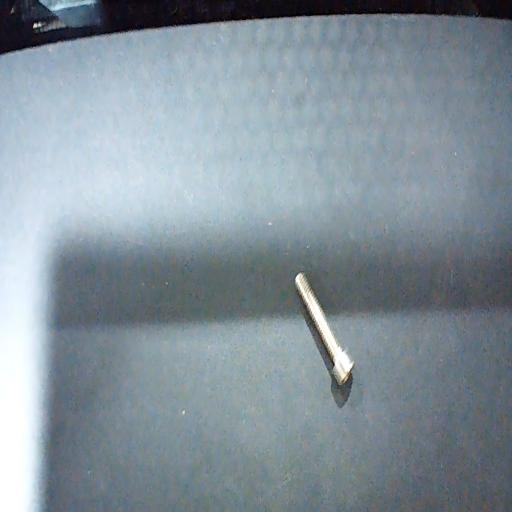screw: (295, 271, 354, 387)
